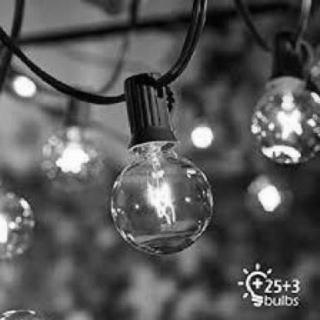other: (194, 126, 211, 150)
